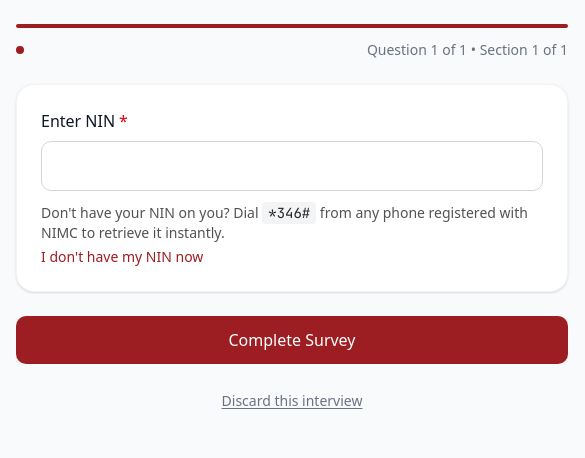
Test: FormFillerPage › modulus11 NIN validation › Story 13-15 — passes a well-formed NIN that fails Mod-11 (rule is format-only)
The image size is (585, 458).
In the field with test id "input-nin": (292, 166) [41,141,543,191], type "12345678902"
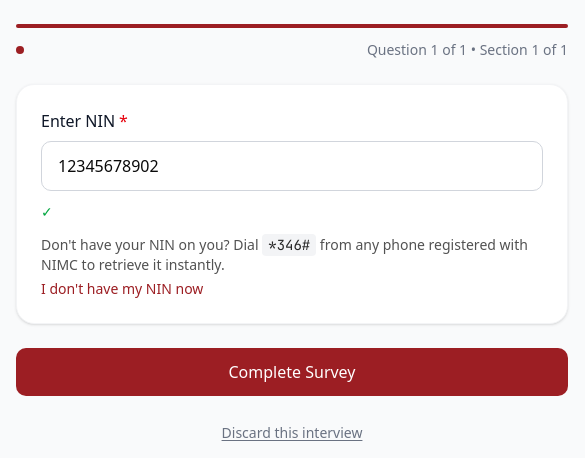
Click the button with test id "continue-btn": (292, 372) [16,348,568,396]
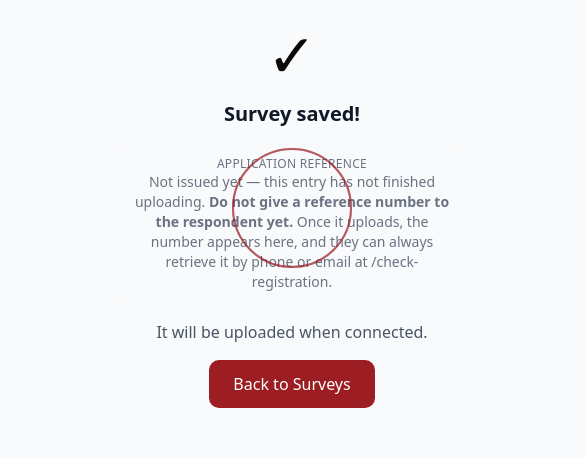
Expected: the element with test id "completion-screen" is shown
